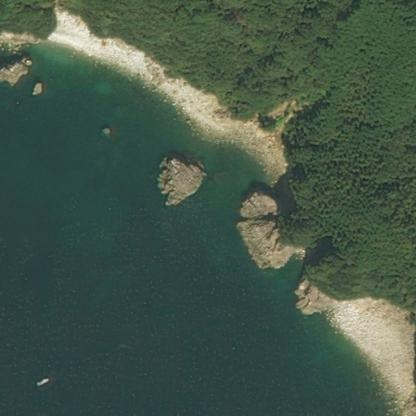ship: (35, 378, 48, 386)
